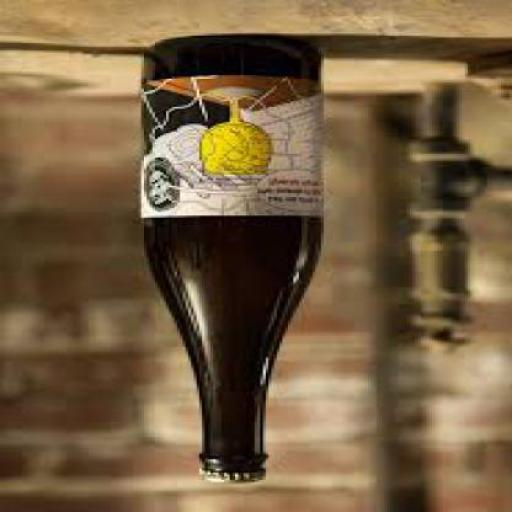glass: (136, 39, 321, 475)
metal: (196, 474, 260, 486)
